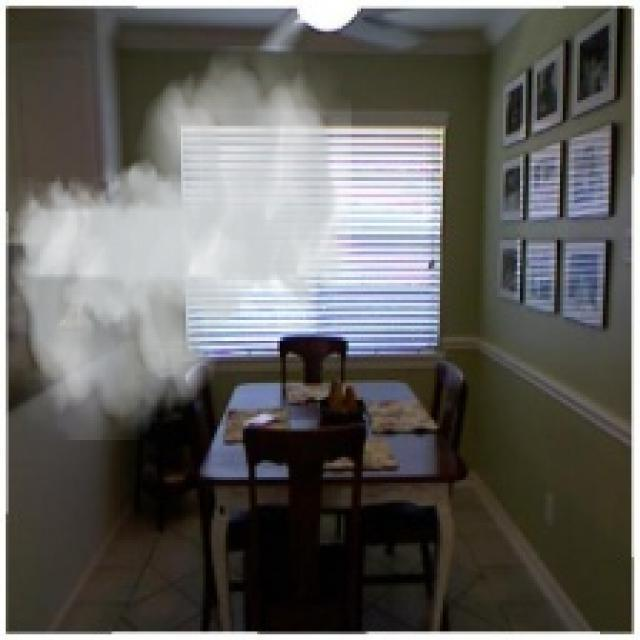Smoke: (9, 46, 352, 440)
